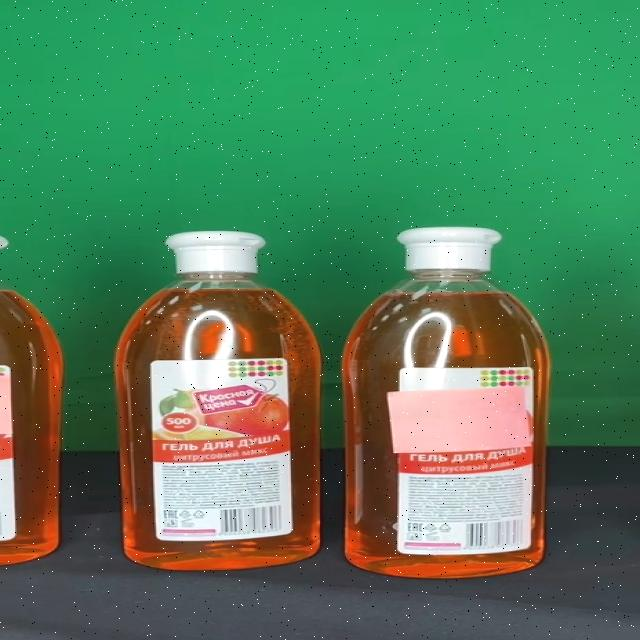Bottle: (342, 227, 550, 577), (115, 231, 321, 570)
Cap: (397, 228, 501, 271), (163, 232, 267, 274)
